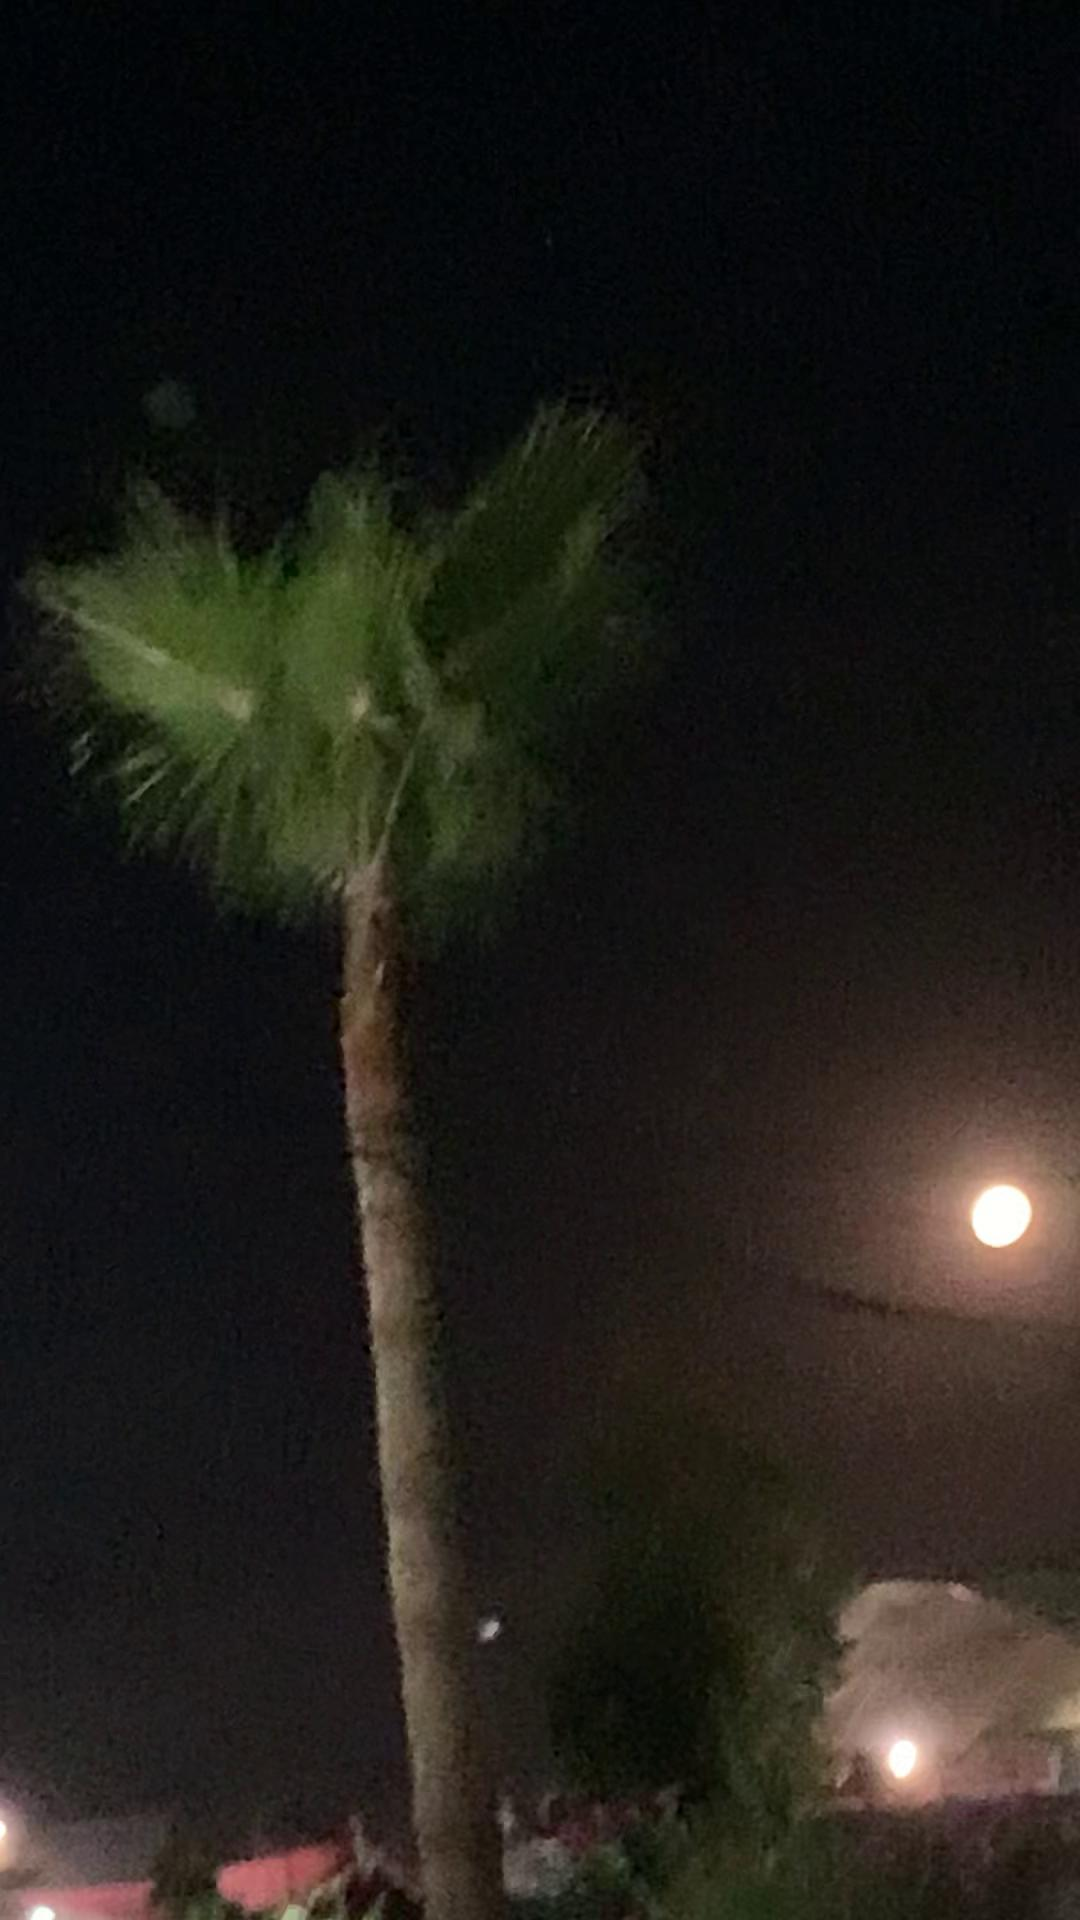moon: (521, 702, 618, 783)
